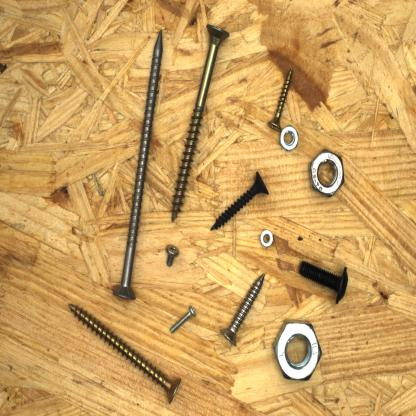screw: (110, 26, 165, 302), (64, 300, 185, 407), (169, 21, 232, 226), (208, 167, 271, 233), (218, 272, 266, 349), (297, 259, 351, 307), (266, 63, 295, 135), (168, 302, 198, 336), (162, 242, 182, 269)
